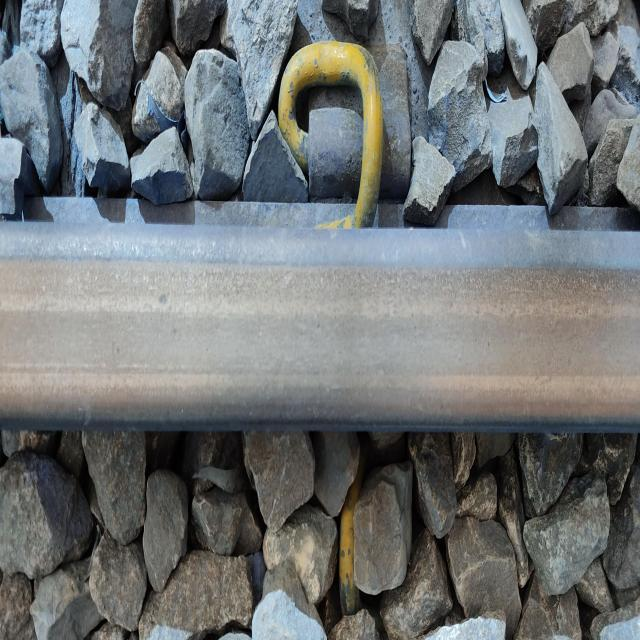Good Fasteners: (279, 42, 411, 228), (339, 449, 365, 615)
